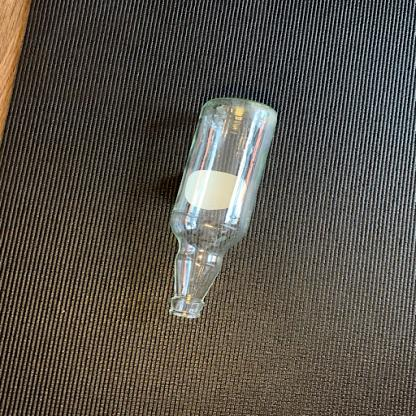trash: (162, 95, 280, 326)
